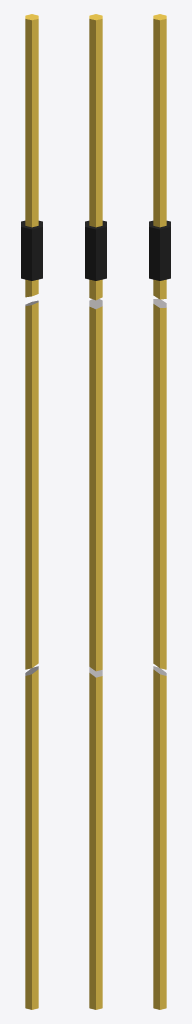
File: Cot3_DEST.fbx
The picture shows the model from 3 angles, left to right: view 1: azimuth 90°, elevation 25°; view 2: azimuth 210°, elevation 25°; view 3: azimuth 270°, elevation 25°; orthographic projection.
Visible parts, largest first — view 1: cot7.002, cot7, cot7.001; view 2: cot7.002, cot7, cot7.001; view 3: cot7.002, cot7, cot7.001.
Part boxes in pixels (<box>): cot7.002: <box>25,300,38,669</box>; cot7: <box>25,666,38,1009</box>; cot7.001: <box>21,14,42,297</box>; cot7.002: <box>89,299,102,671</box>; cot7: <box>89,667,102,1009</box>; cot7.001: <box>85,14,106,300</box>; cot7.002: <box>153,298,166,669</box>; cot7: <box>153,666,166,1009</box>; cot7.001: <box>149,14,170,299</box>.
Bounding box in the file's own units: 116 × 5050 × 100.
